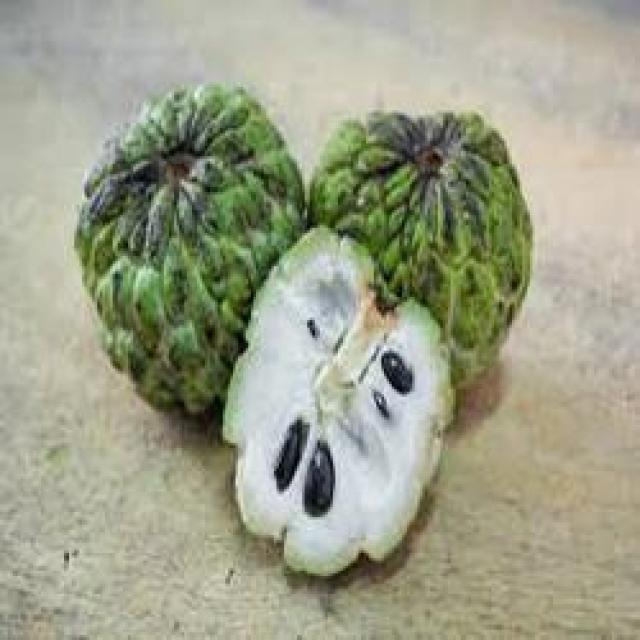apple: (218, 223, 458, 586), (79, 66, 310, 428), (310, 102, 535, 384)
